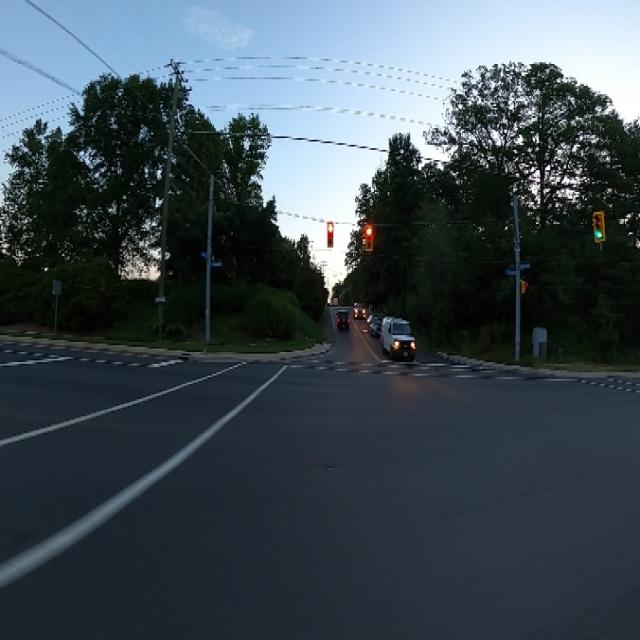cars: (382, 315, 417, 363), (367, 308, 388, 342), (335, 308, 354, 338), (351, 297, 368, 325)
